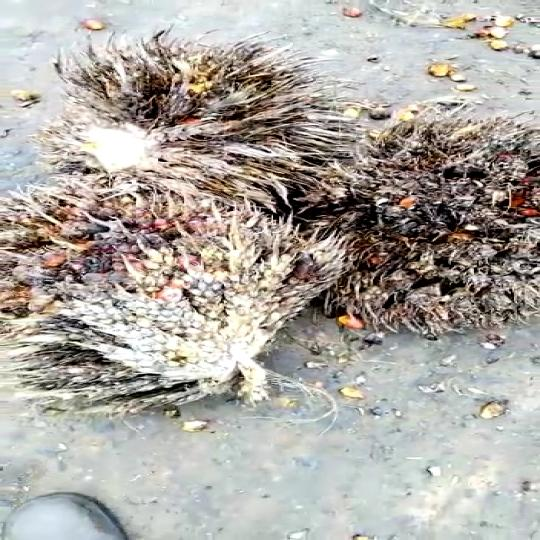terlalu masak: (0, 182, 368, 416), (264, 112, 540, 344), (36, 33, 353, 175)
